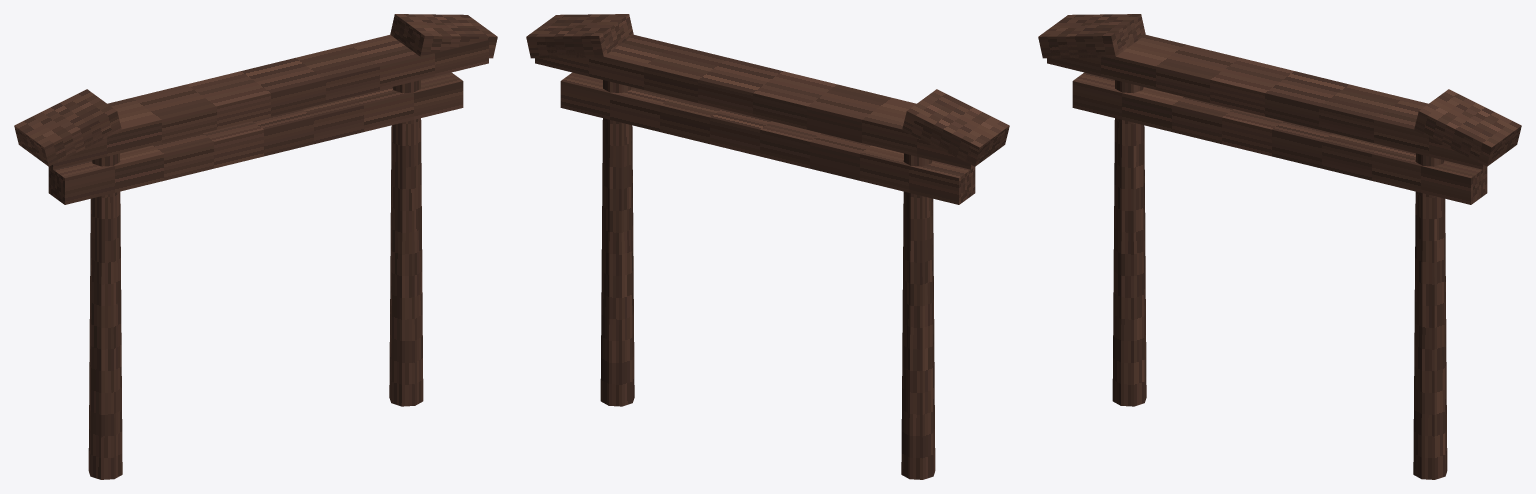
Rendered from gate_16.glb.
The picture shows the model from 3 angles, left to right: view 1: azimuth 30°, elevation 25°; view 2: azimuth 150°, elevation 25°; view 3: azimuth 330°, elevation 25°; orthographic projection.
Visible parts, largest first — view 1: Roof, Lintel, Pillar.001, Pillar, RaisedEave, RaisedEave.001; view 2: Roof, Lintel, Pillar.001, Pillar, RaisedEave, RaisedEave.001; view 3: Roof, Lintel, Pillar, Pillar.001, RaisedEave.001, RaisedEave.
Part boxes in pixels (bbox=[...]): Roof: bbox=[49, 35, 488, 169]; Lintel: bbox=[48, 72, 463, 204]; Pillar.001: bbox=[389, 80, 423, 406]; Pillar: bbox=[88, 153, 122, 479]; RaisedEave: bbox=[14, 89, 121, 166]; RaisedEave.001: bbox=[390, 14, 497, 58]; Roof: bbox=[535, 35, 974, 169]; Lintel: bbox=[560, 72, 975, 204]; Pillar.001: bbox=[600, 80, 634, 406]; Pillar: bbox=[901, 153, 935, 479]; RaisedEave: bbox=[902, 89, 1009, 166]; RaisedEave.001: bbox=[526, 14, 633, 58]; Roof: bbox=[1047, 35, 1486, 169]; Lintel: bbox=[1072, 72, 1487, 204]; Pillar: bbox=[1112, 80, 1146, 406]; Pillar.001: bbox=[1413, 153, 1447, 479]; RaisedEave.001: bbox=[1414, 89, 1521, 166]; RaisedEave: bbox=[1038, 14, 1145, 58].
Size of the model in its own units: 5.67 by 4.46 by 0.65.
1 material, 1 textured.
